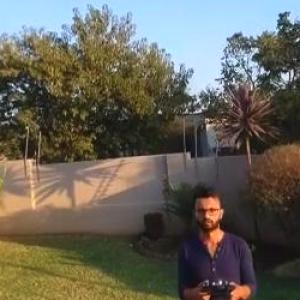follow: (172, 179, 258, 299)
